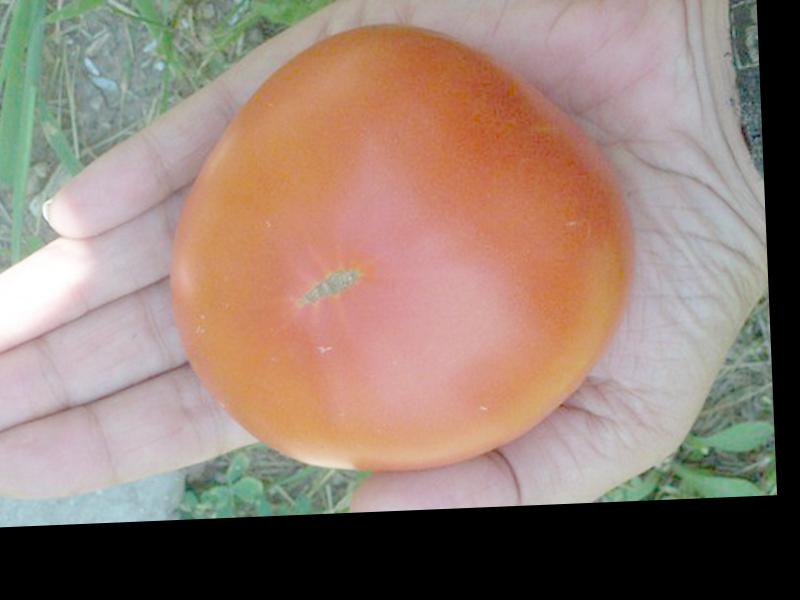Tomato: (161, 14, 637, 479)
